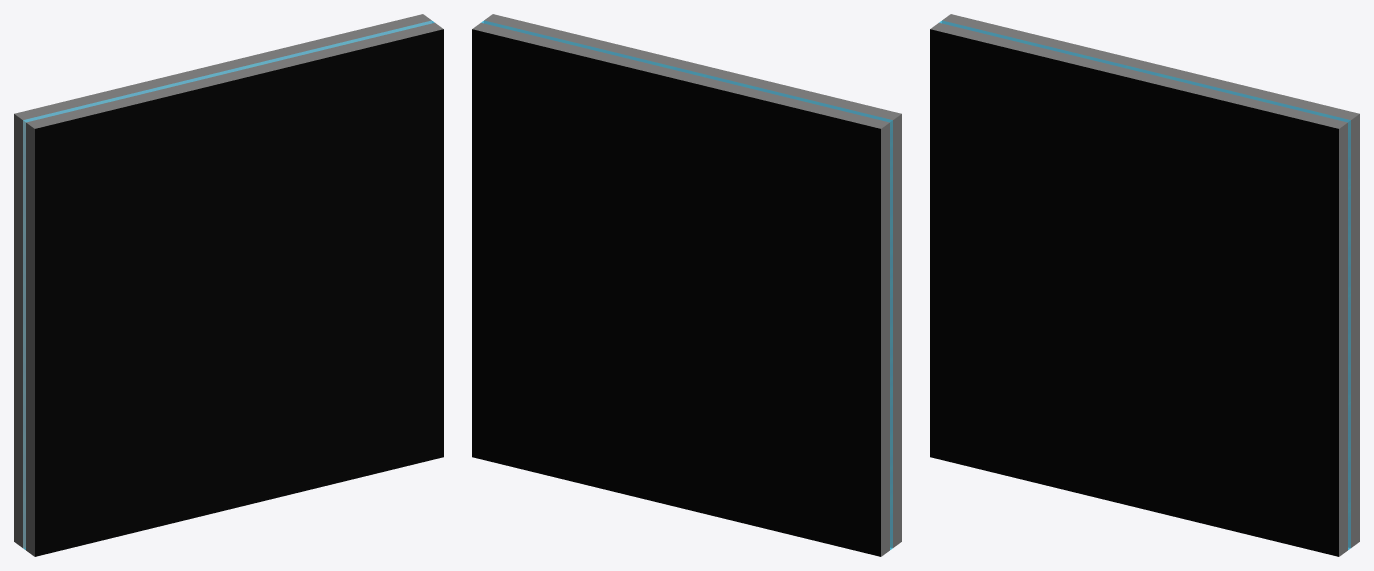
File: RealSTC B.glb
3 renders of one model, left to right at view 1: azimuth 30°, elevation 25°; view 2: azimuth 150°, elevation 25°; view 3: azimuth 330°, elevation 25°, orthographic.
Visible parts, largest first — view 1: 2625; view 2: 2625; view 3: 2625.
Boxes of the visible parts, <box> form: 2625: <box>14,14,443,556</box>; 2625: <box>472,14,901,556</box>; 2625: <box>930,14,1359,556</box>.
Bounding box in the file's own units: 23.5 × 23.5 × 2.06.
Materials: 26 (4 with a texture image).
